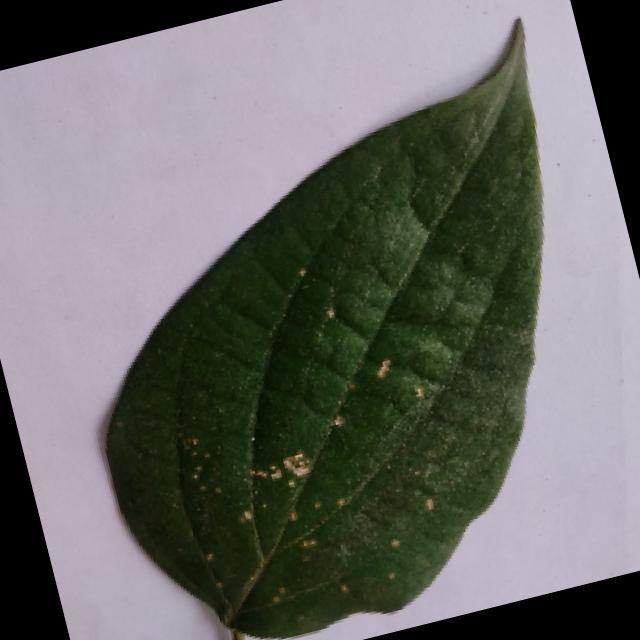pollu-disease: (19, 17, 640, 640)
